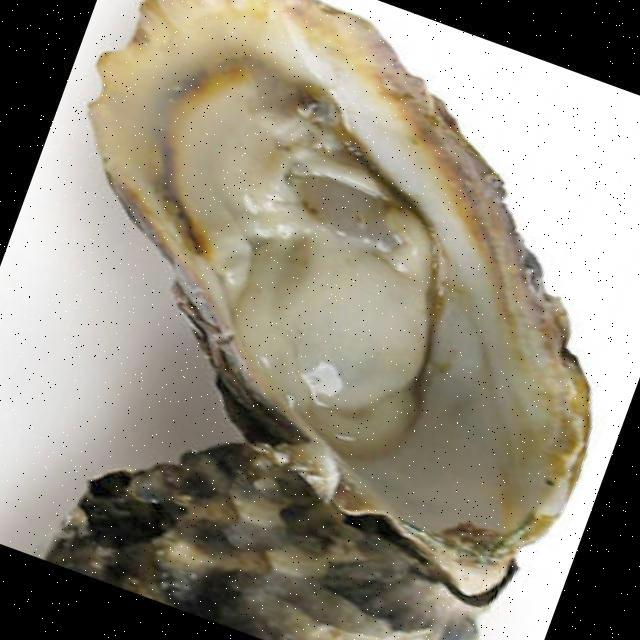Oyster-Closed: (46, 438, 484, 640)
Oyster-Open: (89, 0, 596, 602)
